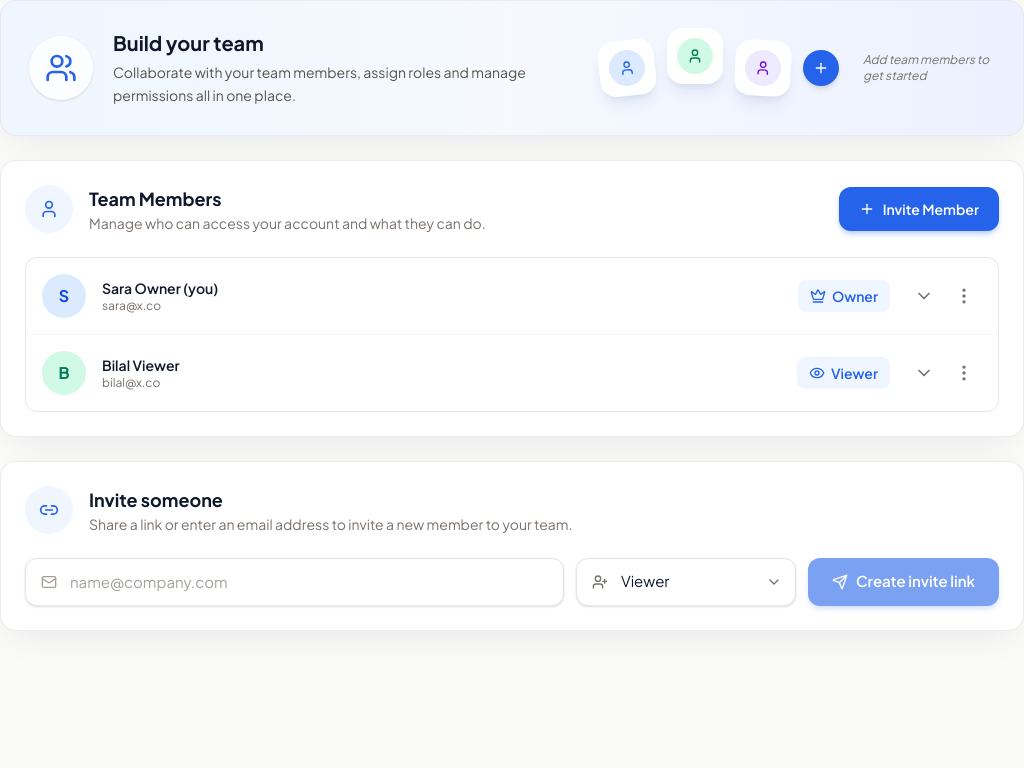
Test case: TeamPanel › shows the server error when inviting fails
Type "bilal@x.co" into the field named "Invite email". click: point(294, 582)
box: [25,558,564,606]
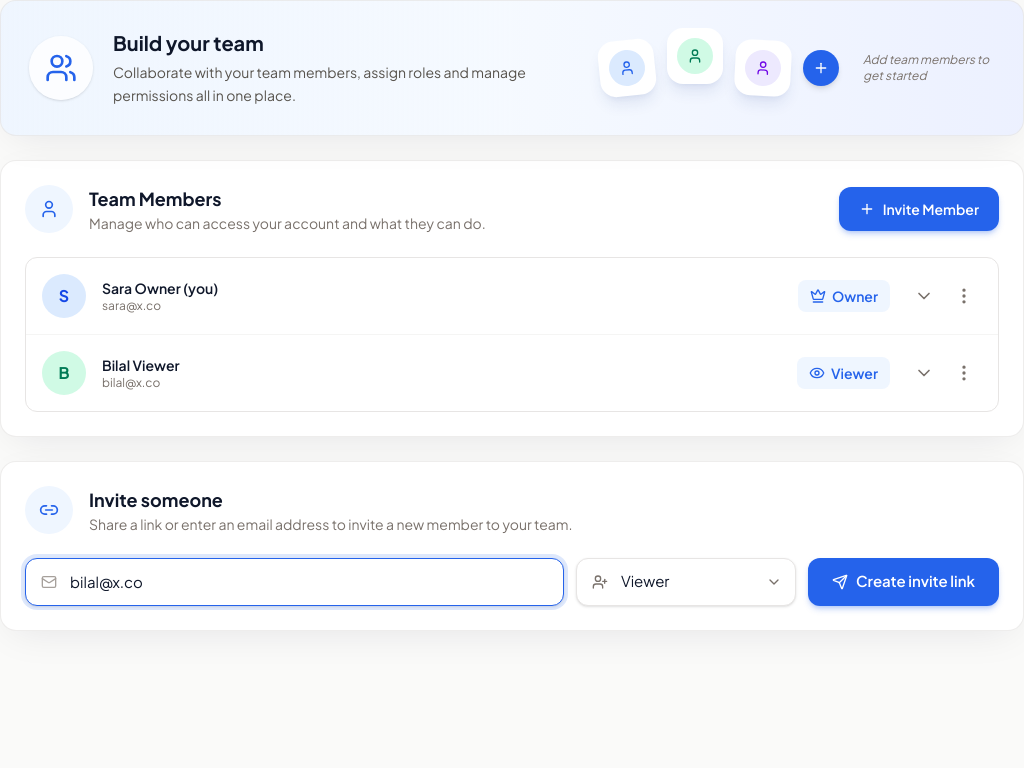
Click the button "Create invite link". click: point(903, 582)
box: [808,558,999,606]
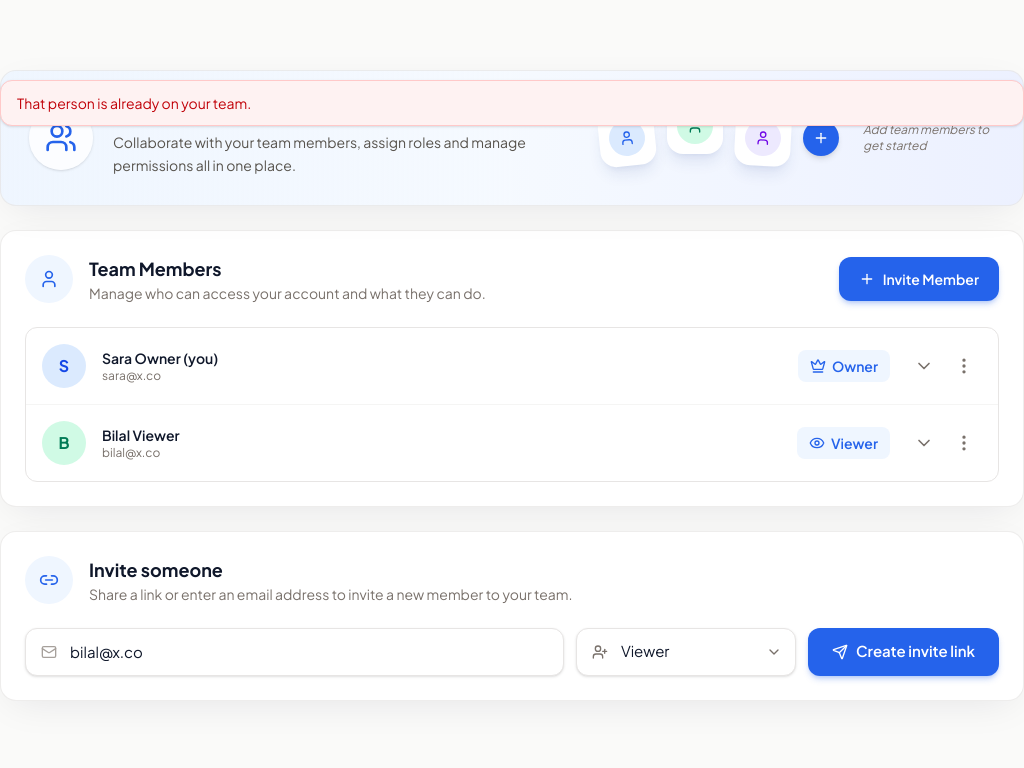
Expected: the message shows "already on your team", [17,94,251,112]
